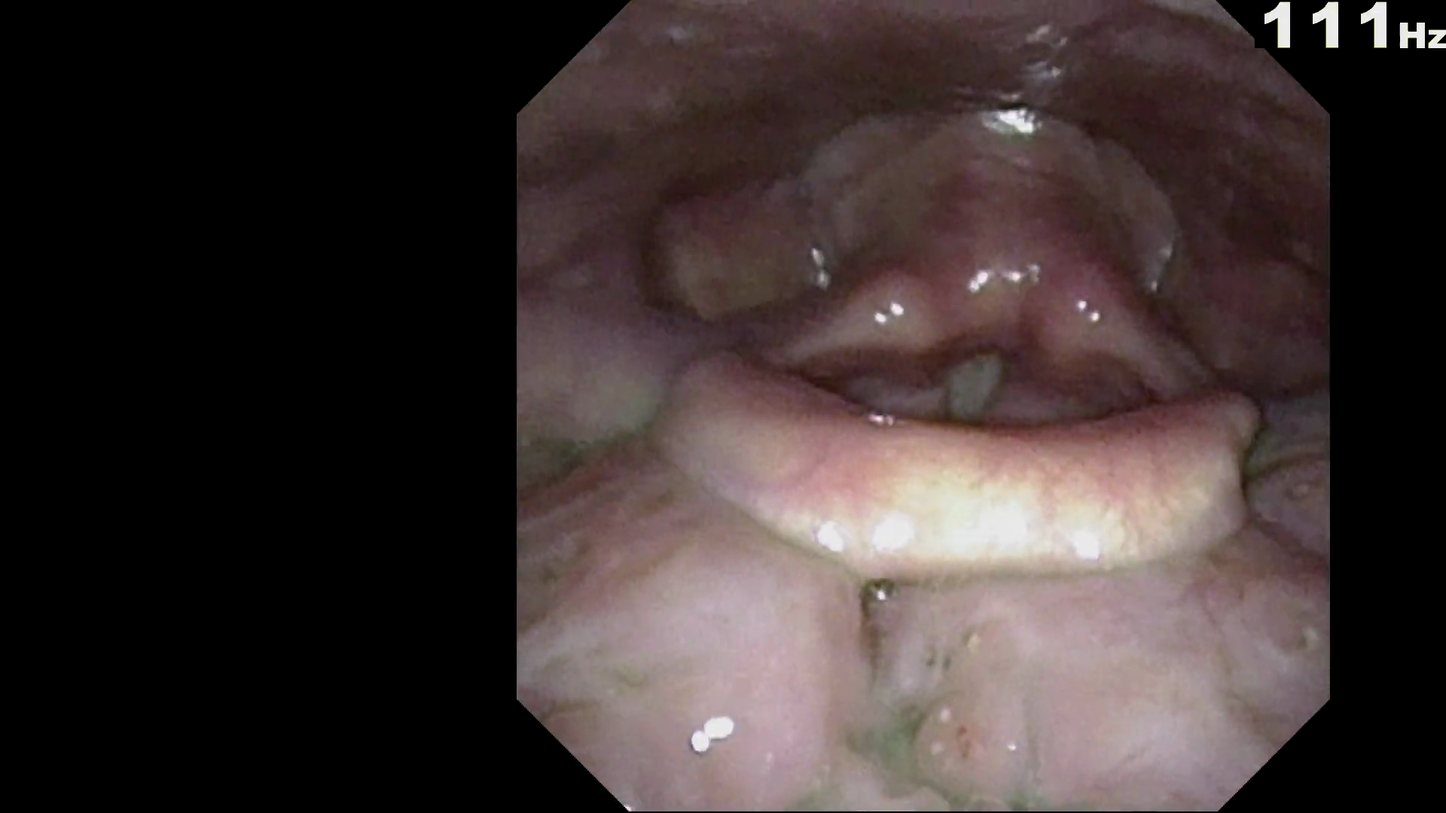epiglottis: (649, 349, 1259, 576)
trachea: (933, 329, 1018, 437)
